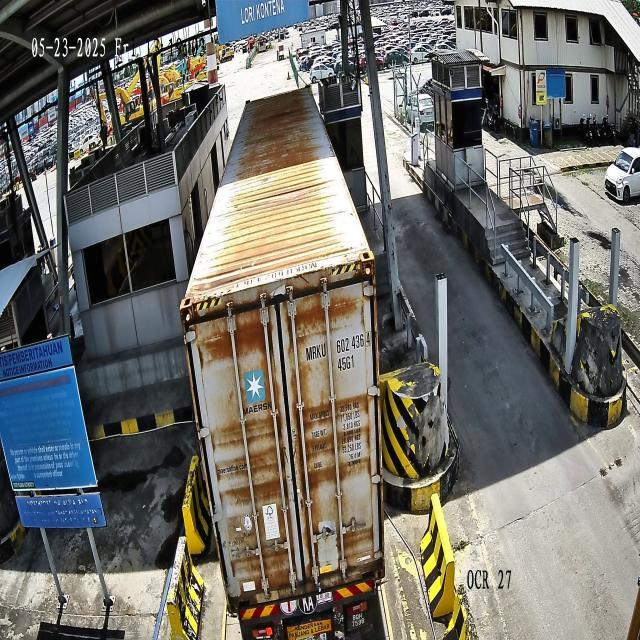ISO: (336, 355, 354, 373)
container_number: (304, 329, 372, 362)
